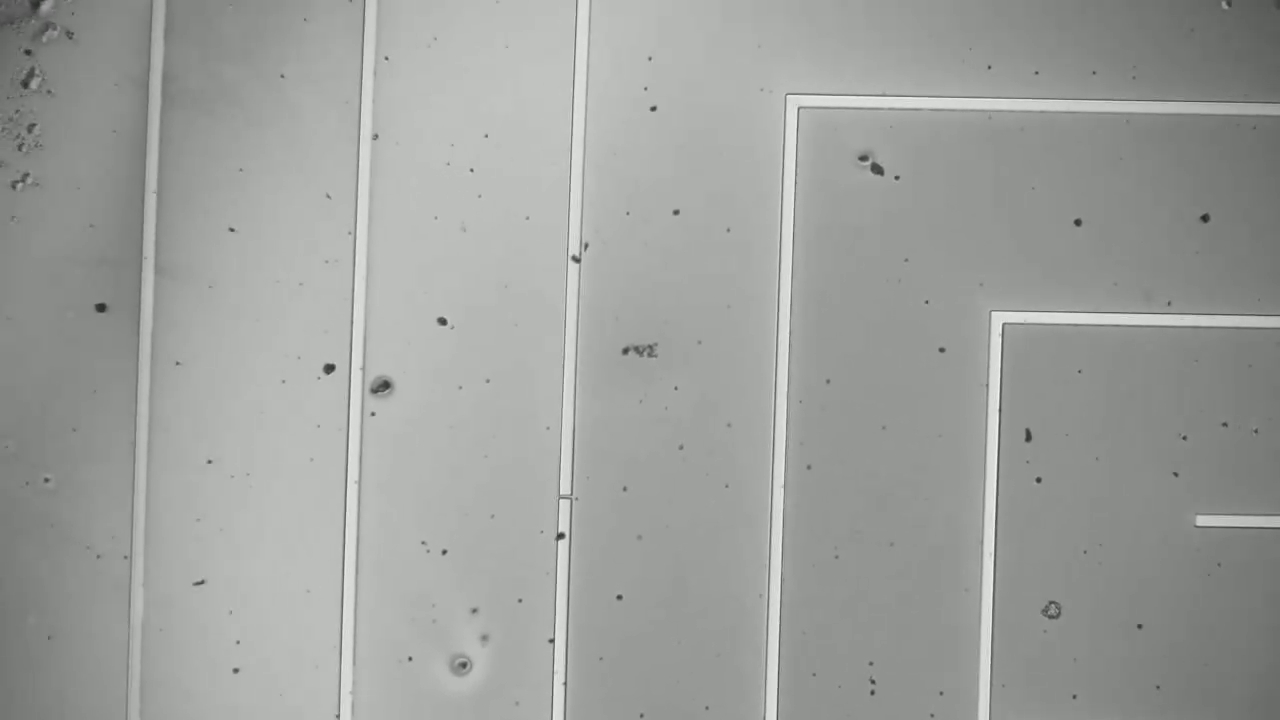open: (547, 484, 584, 509)
stains_enbedded: (545, 517, 587, 552), (558, 243, 590, 274)
